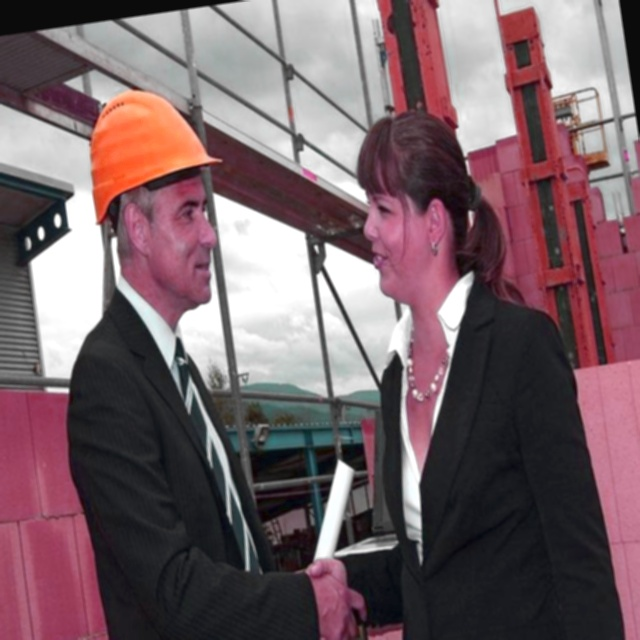Con_Casco: (79, 81, 233, 321)
Sin_Casco_Mascarrilla: (342, 103, 484, 303)
